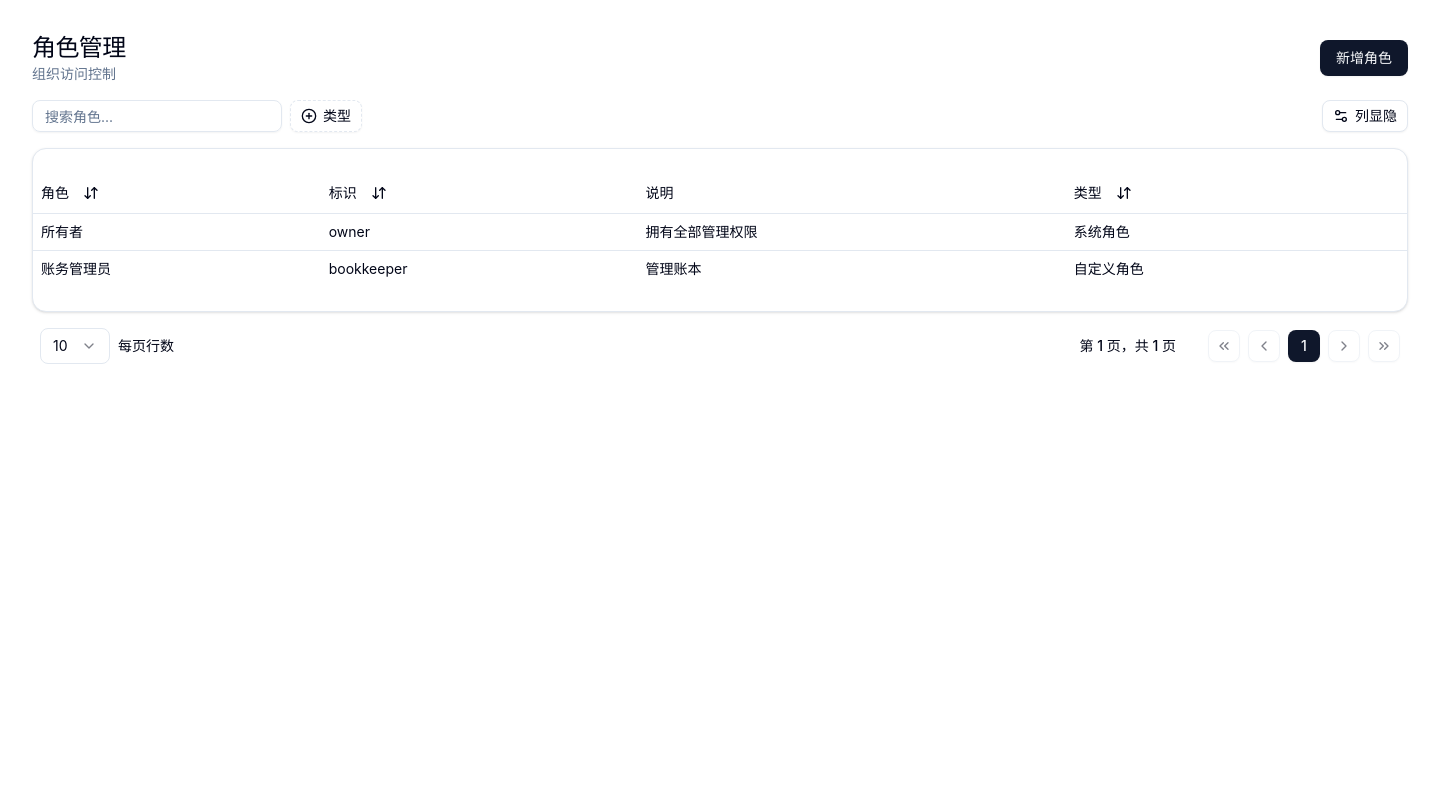
Test case: RolesPage › keeps the editor open and preserves values when creating a role fails
Click the button "新增角色".
click(1364, 58)  # box [1320,40,1408,76]
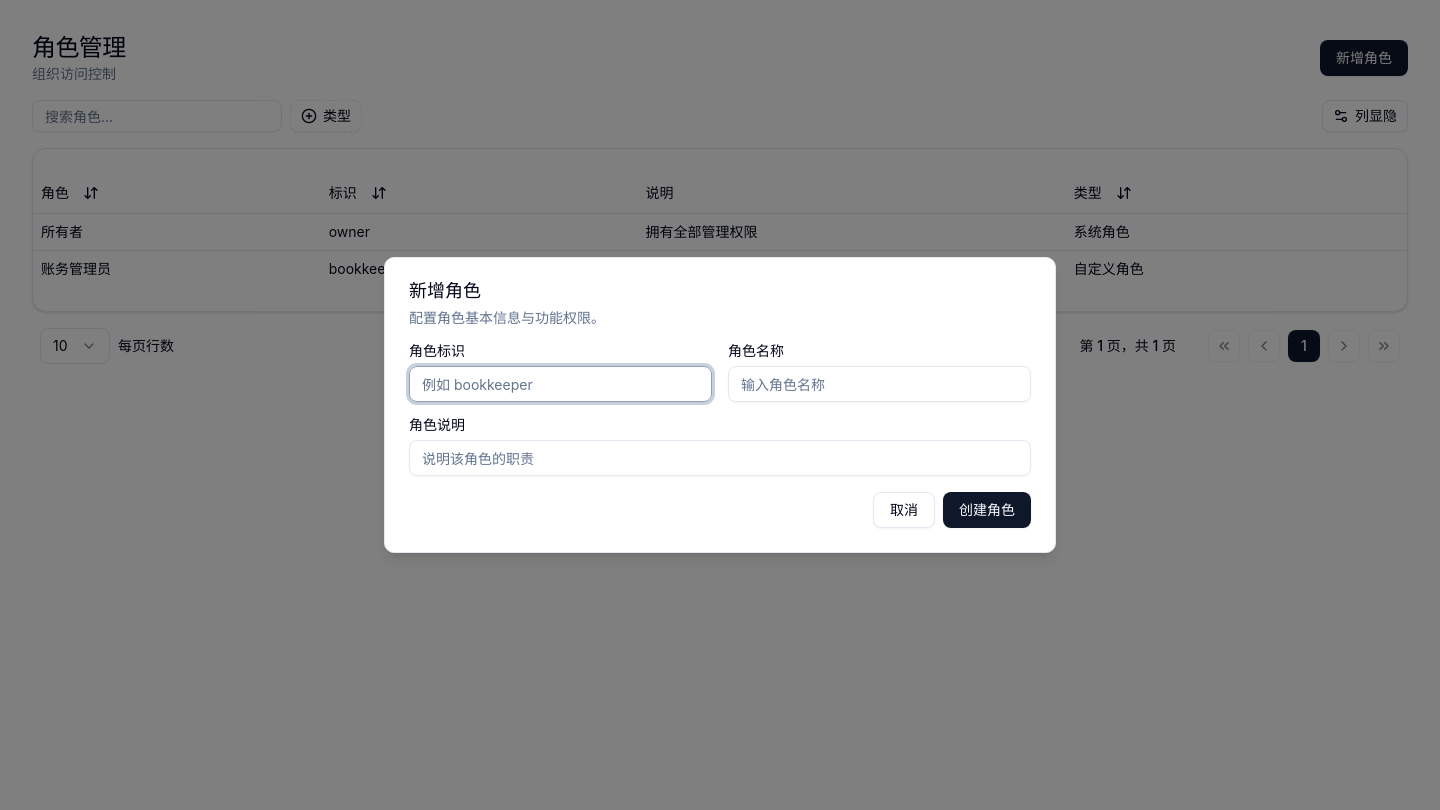
Type "book-keeper" into the field labelled "角色标识".
click(560, 384); type("book-keeper")  # box [409,366,712,402]
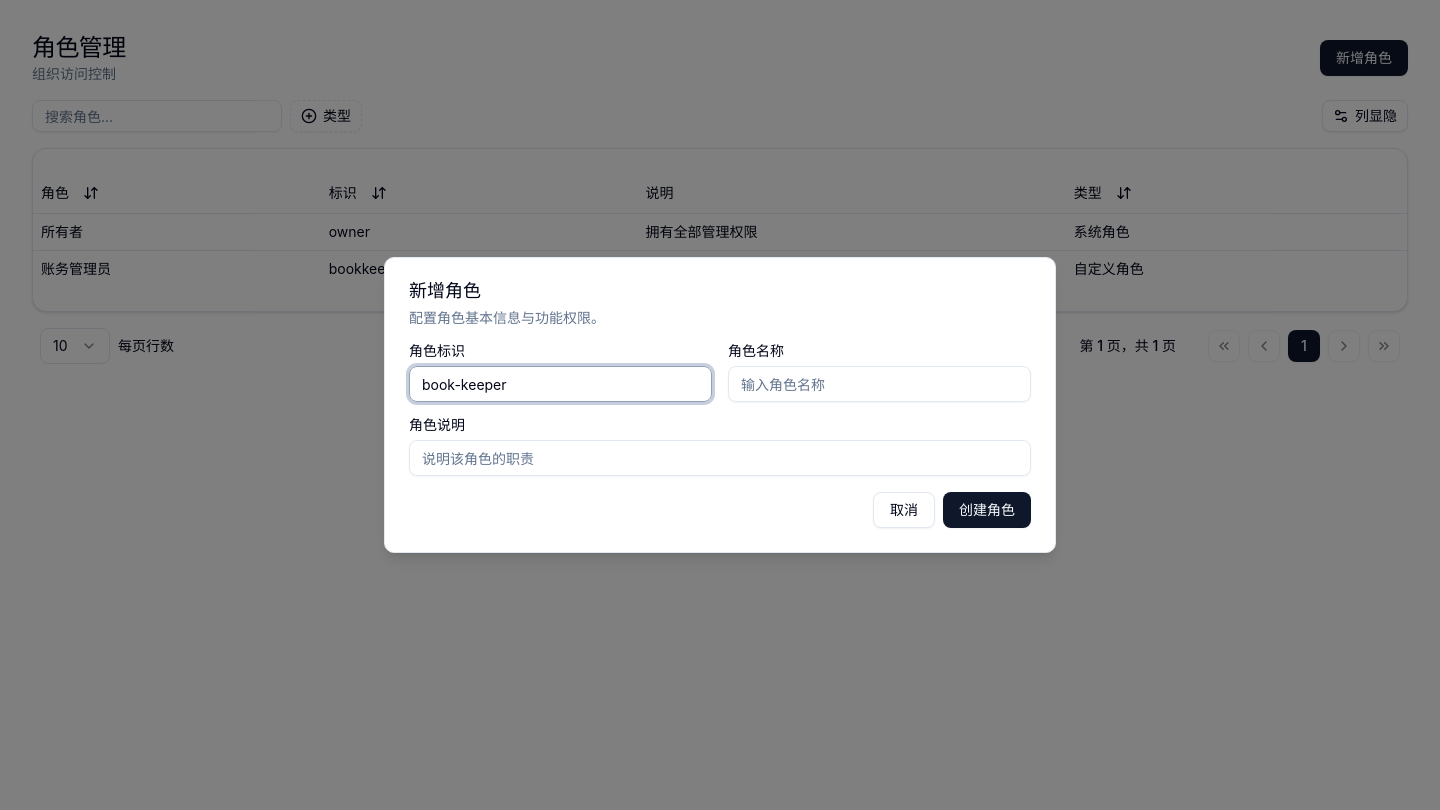
Type "记账员" into the field labelled "角色名称".
click(880, 384); type("记账员")  # box [728,366,1031,402]
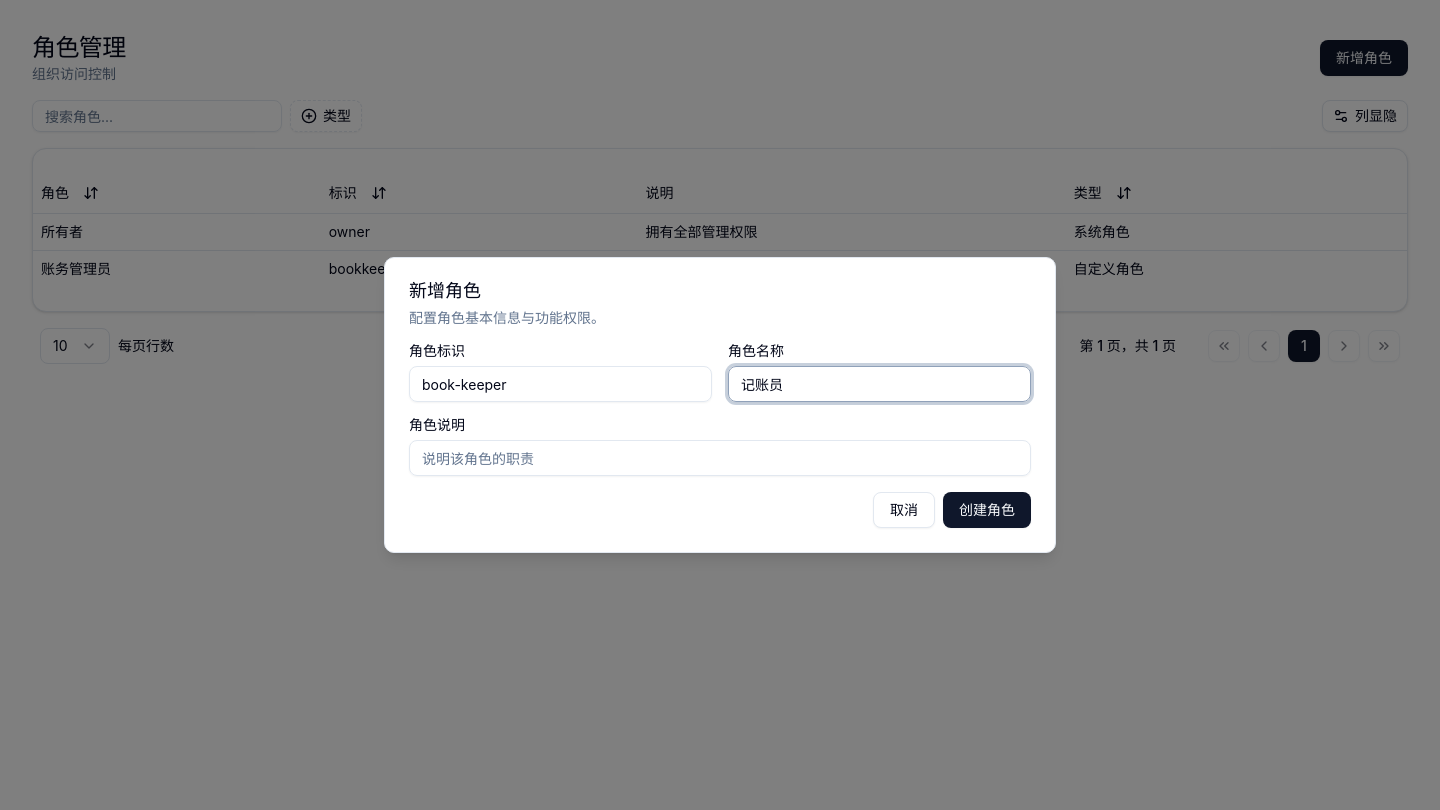
Click the button "创建角色".
click(987, 510)  # box [943,492,1031,528]
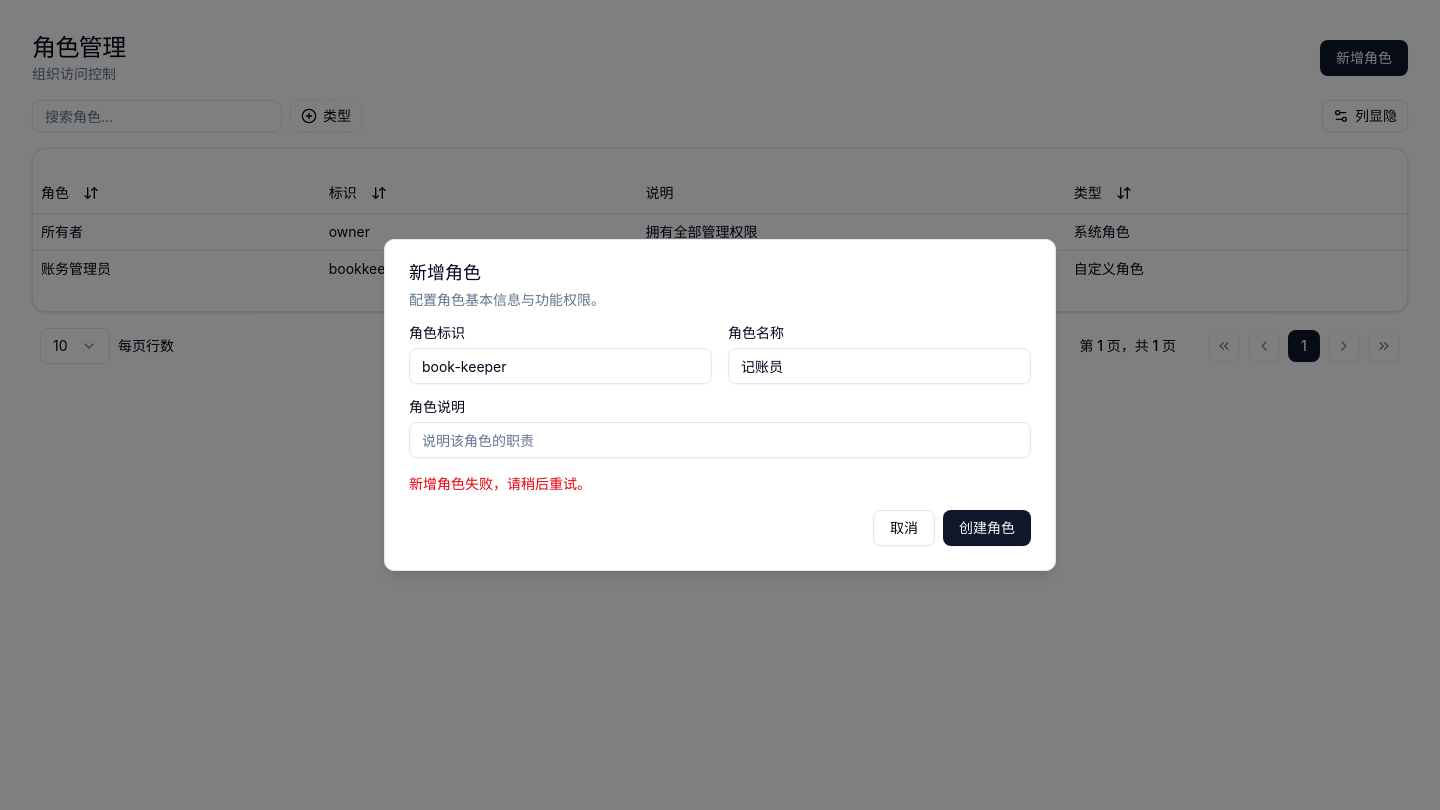
Expected: the dialog is shown, [384,239,1056,571]
Expected: the message reads "新增角色失败，请稍后重试。", [409,475,591,492]
